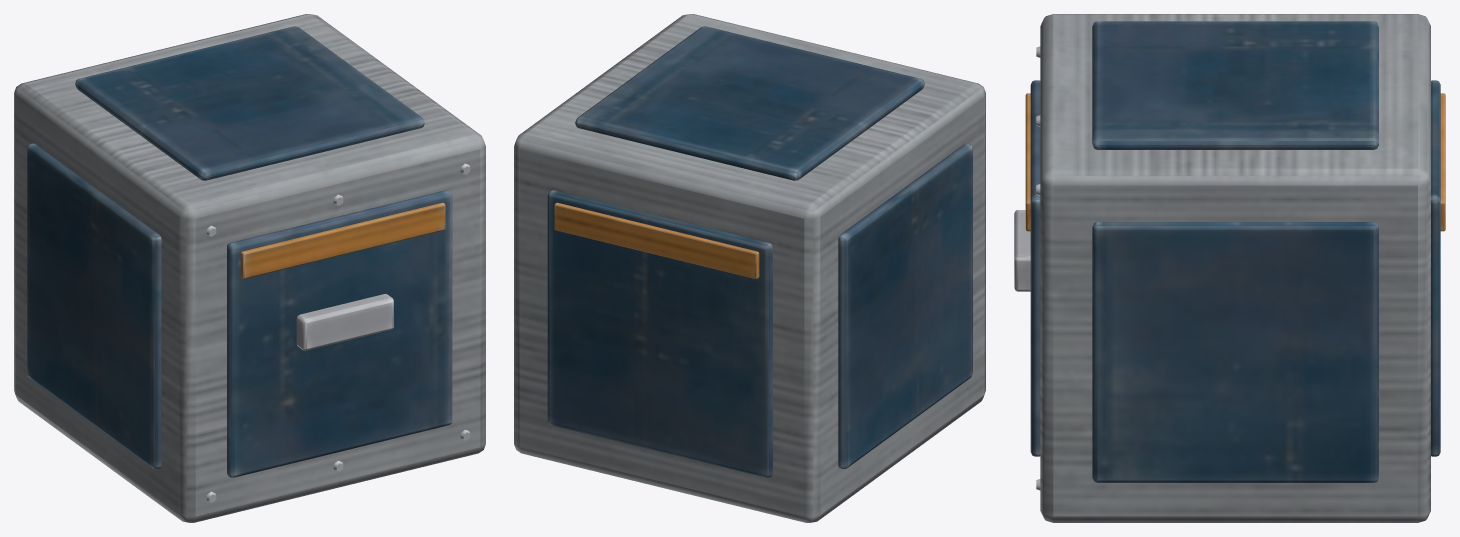
Rendered from Crate_Small.fbx.
The picture shows the model from 3 angles, left to right: view 1: azimuth 30°, elevation 25°; view 2: azimuth 150°, elevation 25°; view 3: azimuth 270°, elevation 25°; orthographic projection. The views are drawn at different scales.
Parts seen in each view (by area): view 1: Crate_Small; view 2: Crate_Small; view 3: Crate_Small.
Boxes of the visible parts, x1=… form: Crate_Small: x1=14, y1=14, x2=485, y2=522; Crate_Small: x1=514, y1=14, x2=985, y2=522; Crate_Small: x1=1014, y1=14, x2=1445, y2=522.
Size of the model in its own units: 0.63 by 0.62 by 0.6625.
Materials: 1 (1 with a texture image).
